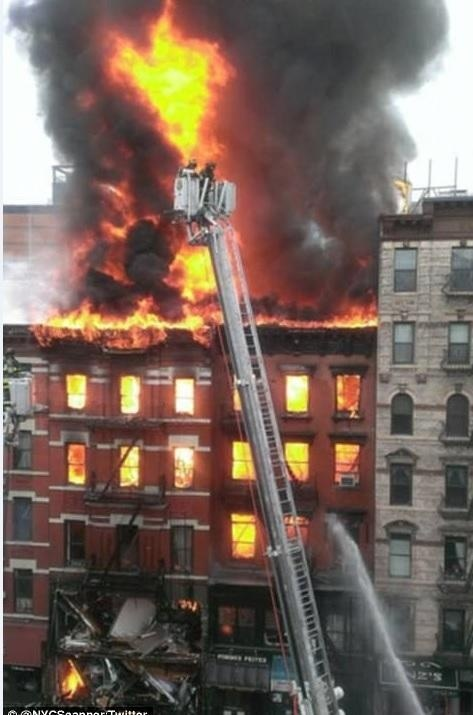fire: (113, 2, 227, 167), (42, 237, 225, 337), (254, 295, 377, 330), (226, 510, 259, 560), (331, 369, 361, 418), (227, 437, 255, 484), (281, 438, 310, 482), (114, 441, 139, 489), (333, 438, 360, 482), (282, 370, 309, 413), (172, 442, 195, 489), (118, 372, 140, 415), (172, 375, 194, 416), (67, 443, 87, 487), (59, 658, 81, 698), (66, 372, 87, 409)
